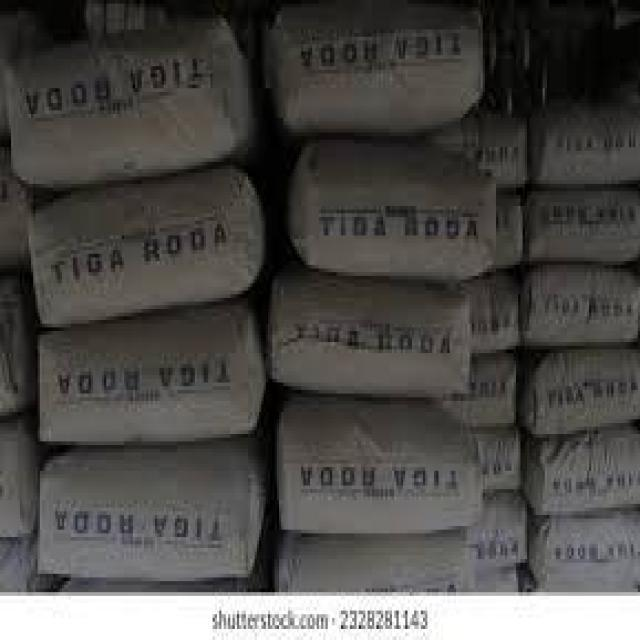gunny_bag: (12, 23, 236, 184), (35, 171, 237, 324), (38, 316, 251, 446), (45, 465, 246, 578), (293, 15, 475, 120), (284, 293, 471, 395), (288, 418, 470, 520), (310, 162, 493, 259), (530, 351, 637, 430), (538, 435, 639, 517), (532, 115, 640, 191), (529, 276, 640, 344), (551, 525, 636, 587)
